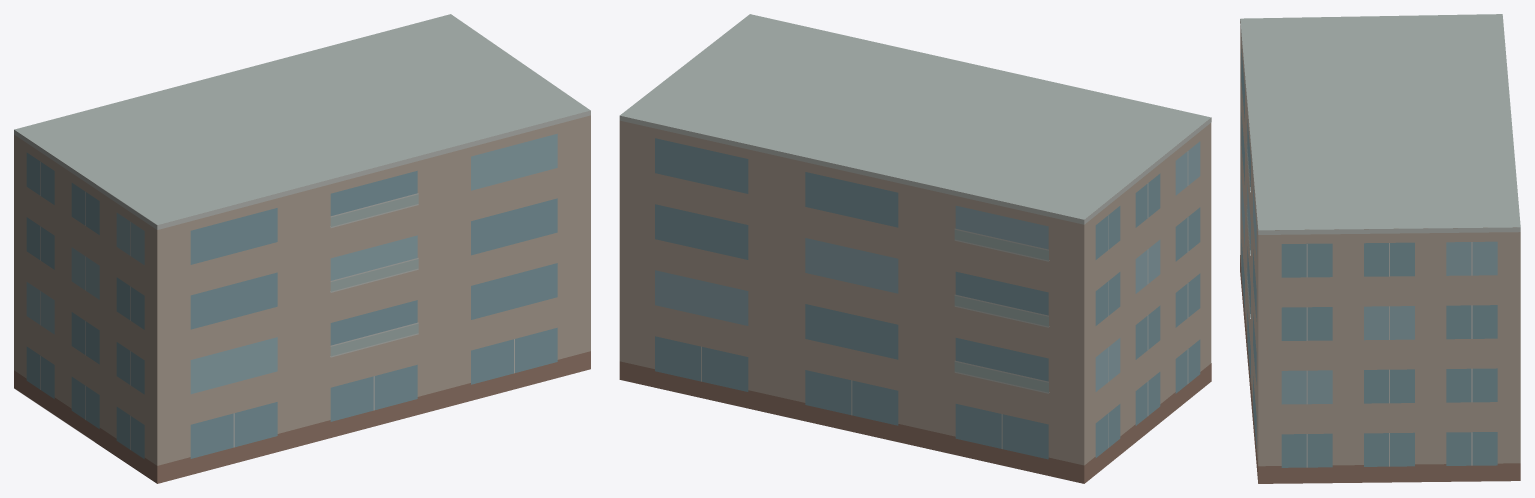
Rendered from survey-upis-32948569.glb.
The picture shows the model from 3 angles, left to right: view 1: azimuth 30°, elevation 25°; view 2: azimuth 150°, elevation 25°; view 3: azimuth 270°, elevation 25°; orthographic projection. The views are drawn at different scales.
Parts seen in each view (by area): view 1: survey-upis-32948569.tmp; view 2: survey-upis-32948569.tmp; view 3: survey-upis-32948569.tmp.
Part boxes in pixels (left/top/right/bottom): survey-upis-32948569.tmp: left=14, top=14, right=590, bottom=483; survey-upis-32948569.tmp: left=619, top=14, right=1211, bottom=483; survey-upis-32948569.tmp: left=1240, top=14, right=1520, bottom=483.
Size of the model in its own units: 23.79 by 13 by 13.04.
